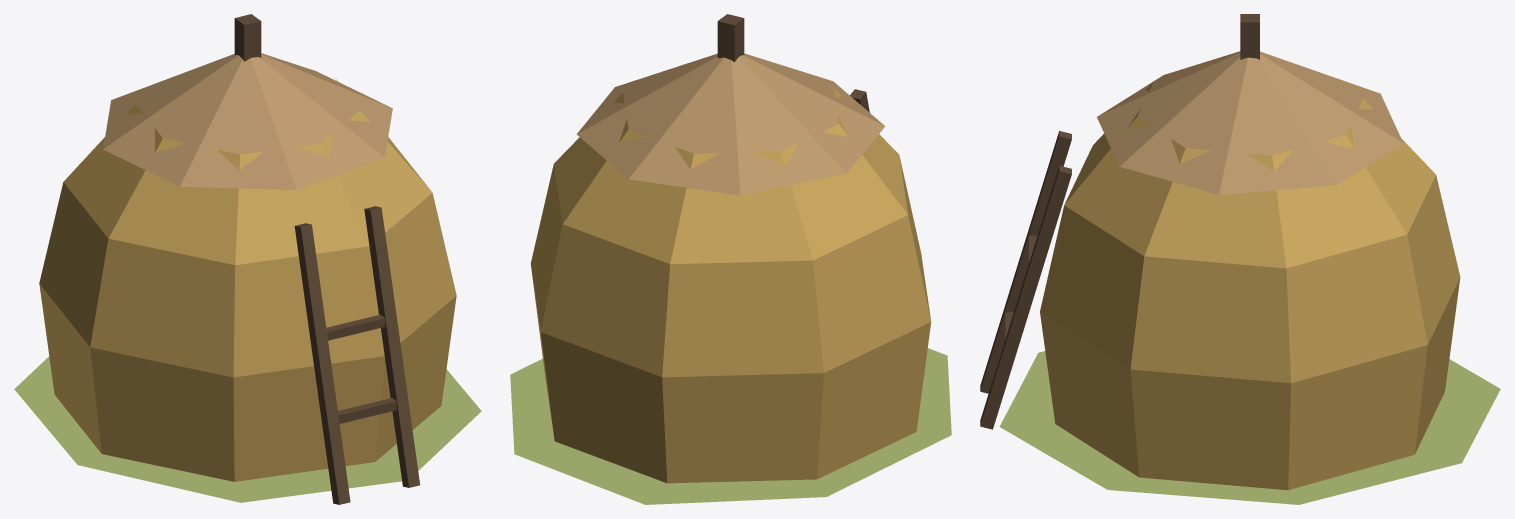
File: prop-haystack.glb
The picture shows the model from 3 angles, left to right: view 1: azimuth 30°, elevation 25°; view 2: azimuth 150°, elevation 25°; view 3: azimuth 270°, elevation 25°; orthographic projection. The views are drawn at different scales.
Parts seen in each view (by area): view 1: prop-haystack; view 2: prop-haystack; view 3: prop-haystack.
Part boxes in pixels (x1,y1,x2,y2): prop-haystack: [14, 14, 481, 504]; prop-haystack: [510, 14, 951, 504]; prop-haystack: [980, 14, 1500, 504].
Size of the model in its own units: 2.79 by 2.65 by 3.16.
Materials: 1 (1 with a texture image).
